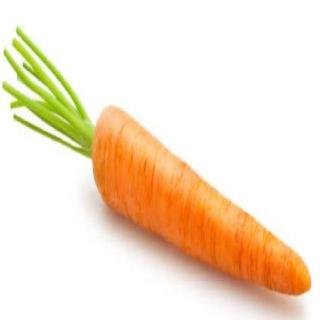carrot: (87, 100, 313, 304)
